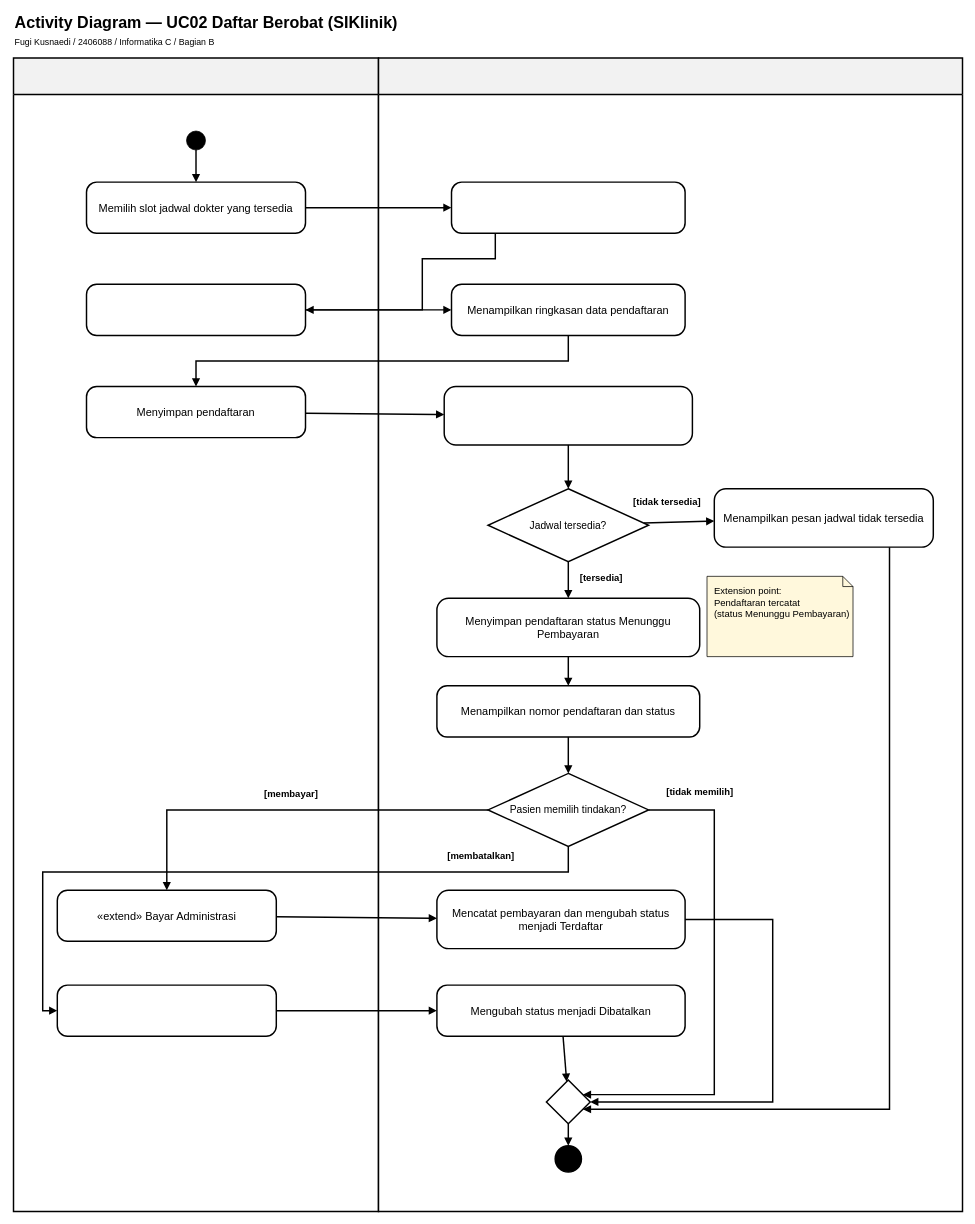
The diagram is 975 pixels wide and 1224 high, and some of its shapes have lost their labels. The shapes that lost their labels are listed below. From the top down, each one's box as (x1, y1, x2, y2) in pixels, then its label:
(450, 181, 685, 234): Menampilkan data slot dan formulir pendaftaran
(85, 283, 306, 336): Mengisi data pendaftaran
(443, 385, 693, 445): «include» Periksa Ketersediaan Jadwal
(12, 57, 379, 1212): Pasien
(377, 57, 963, 1212): Sistem
(56, 984, 277, 1037): «extend» Batalkan Pendaftaran
